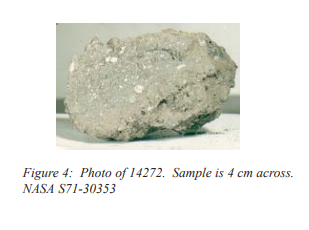Breccia: (57, 20, 221, 145)
